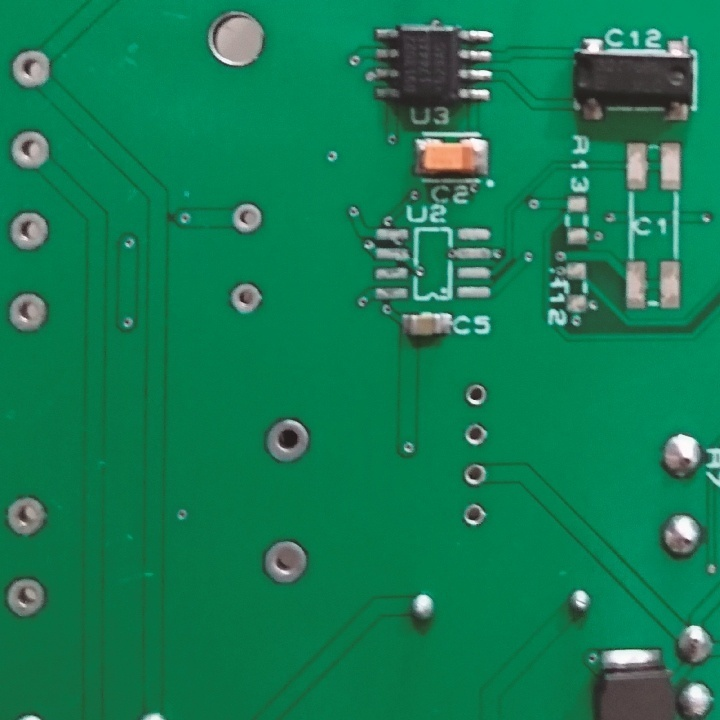F: (264, 416, 313, 467), (262, 540, 310, 589), (4, 495, 49, 540), (8, 129, 53, 173), (9, 209, 52, 255), (7, 292, 50, 337), (5, 578, 48, 623), (9, 48, 56, 89), (230, 200, 266, 237), (228, 281, 265, 315), (463, 380, 490, 412), (460, 460, 490, 488), (461, 501, 487, 529), (464, 422, 489, 448)
